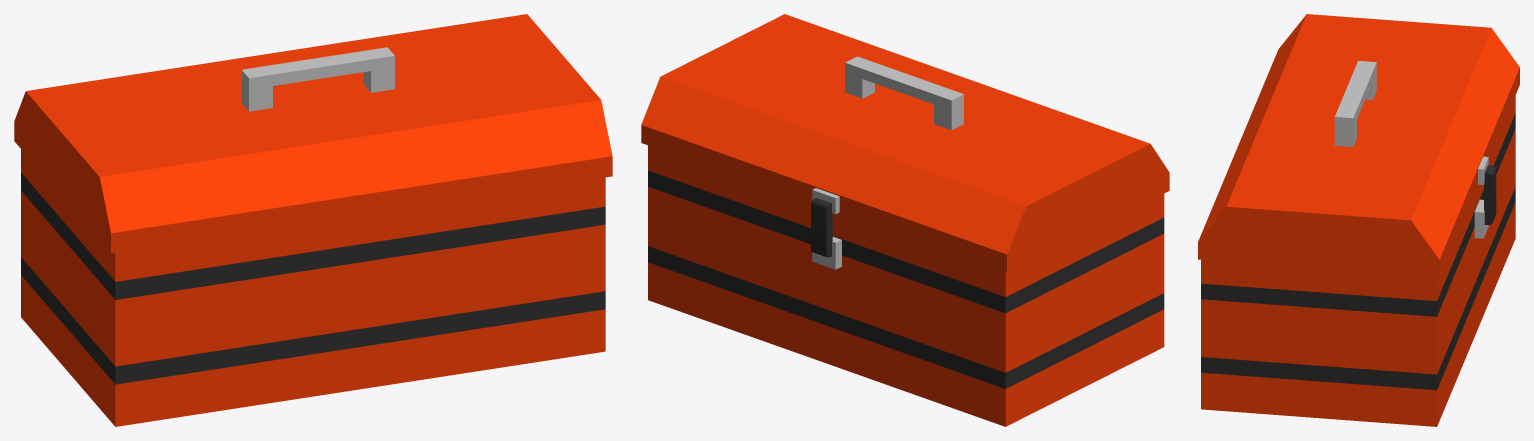
The model's file is d37b3452-e217-4afc-8a76-846e5932fca6.glb.
3 renders of one model, left to right at view 1: azimuth 30°, elevation 25°; view 2: azimuth 150°, elevation 25°; view 3: azimuth 270°, elevation 25°, orthographic. The views are drawn at different scales.
Parts seen in each view (by area): view 1: Box011, Box010, Box013; view 2: Box011, Box010, Box013, Box014, Box008; view 3: Box010, Box011, Box013, Box014, Box008.
Boxes of the visible parts, <box> form: Box011: <box>21,149,605,426</box>; Box010: <box>14,14,612,253</box>; Box013: <box>241,47,394,111</box>; Box011: <box>648,145,1164,426</box>; Box010: <box>641,14,1169,272</box>; Box013: <box>845,56,963,130</box>; Box014: <box>811,198,832,257</box>; Box008: <box>812,236,841,269</box>; Box010: <box>1198,14,1519,277</box>; Box011: <box>1201,95,1515,426</box>; Box013: <box>1334,60,1376,147</box>; Box014: <box>1484,165,1496,224</box>; Box008: <box>1474,199,1488,238</box>.
Size of the model in its own units: 525488 by 274365 by 339300.
